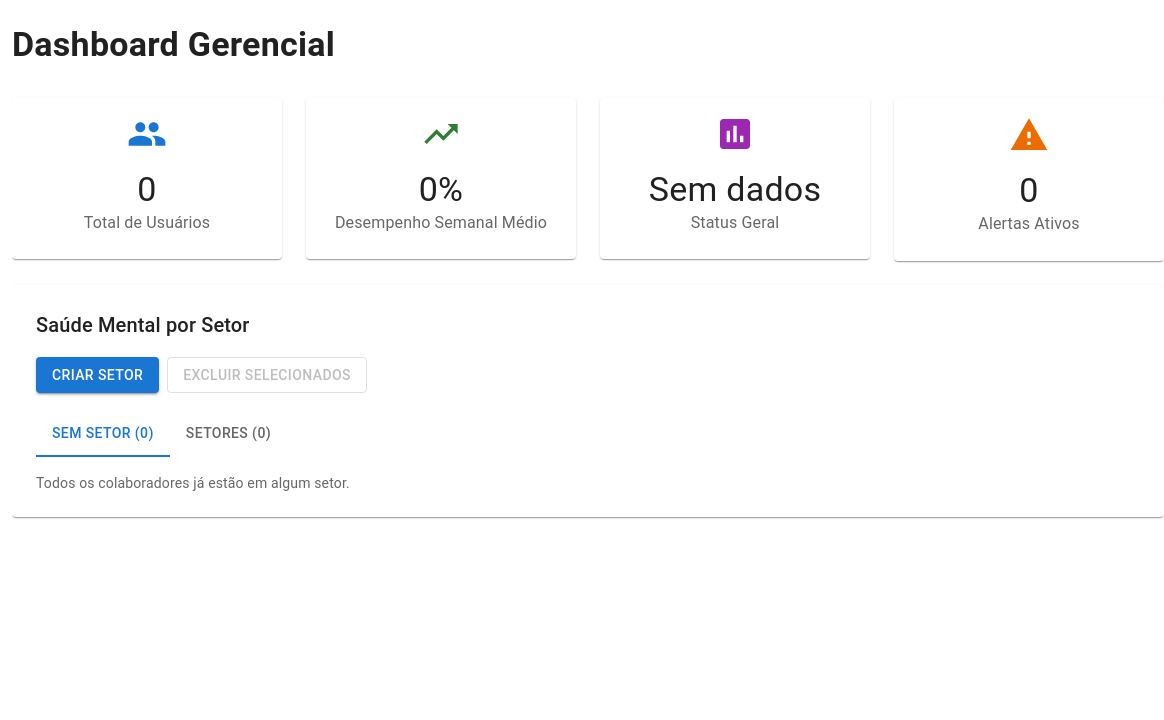
Manager Dashboard Page › should fetch and display manager metrics and alerts
Expected: the text "Alertas Ativos" is shown, [978,214,1080,233]
Expected: the text "Total de Usuários" is shown, [84,213,210,232]
Step 1. Click the element showing "0 Alertas Ativos" → (1029, 180), box [894,98,1163,261]
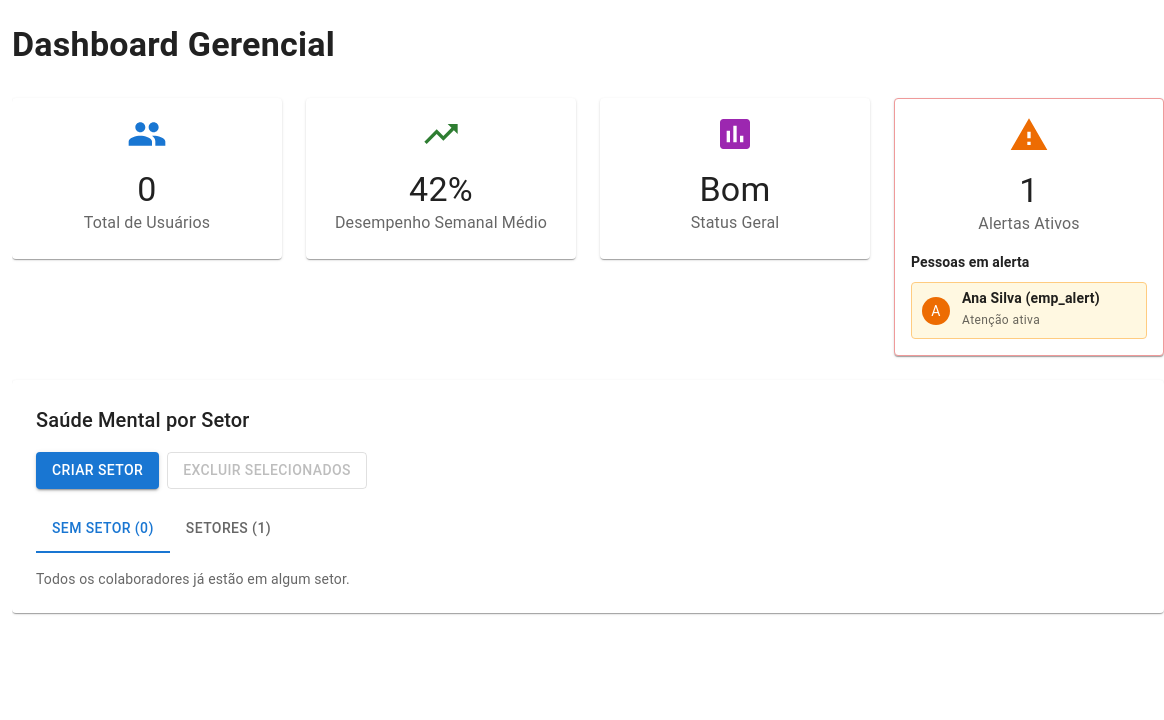
Expected: the heading "Saúde Mental por Setor" is shown, [36,408,250,432]
Now the heading "Pessoas em alerta" is shown, box [911,254,1029,270]
Now the text "Ana Silva (emp_alert)" is shown, box [962,290,1100,307]
